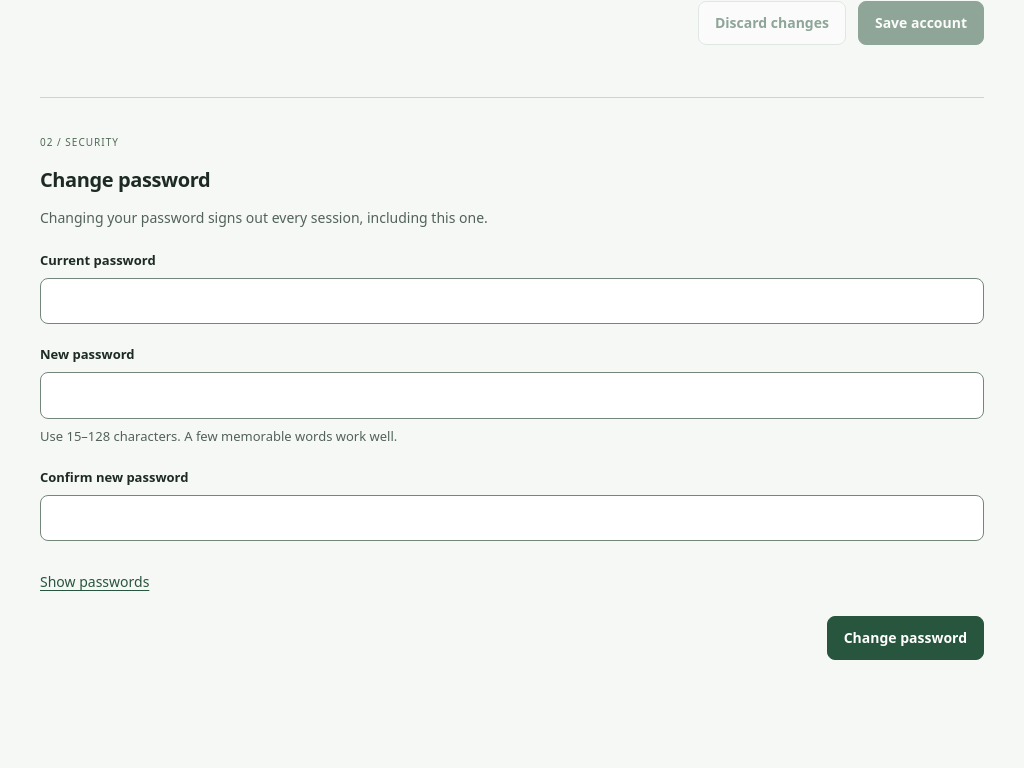
Scenario: validates password confirmation and current password without submitting
(page scrolled)
Expected: the password field labelled "Current password" is shown, x1=40 y1=278 x2=984 y2=324
In the password field labelled "New password": (512, 396) x1=40 y1=372 x2=984 y2=419, type "short"
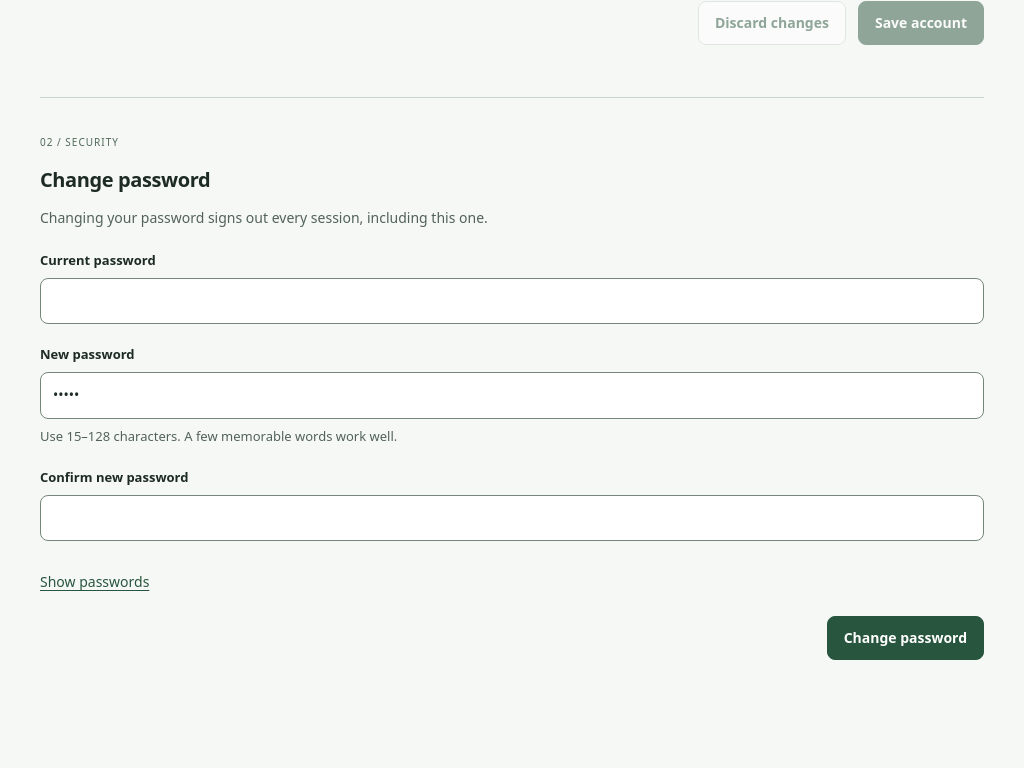
Click the button "Change password": click(905, 638) x1=827 y1=616 x2=984 y2=660
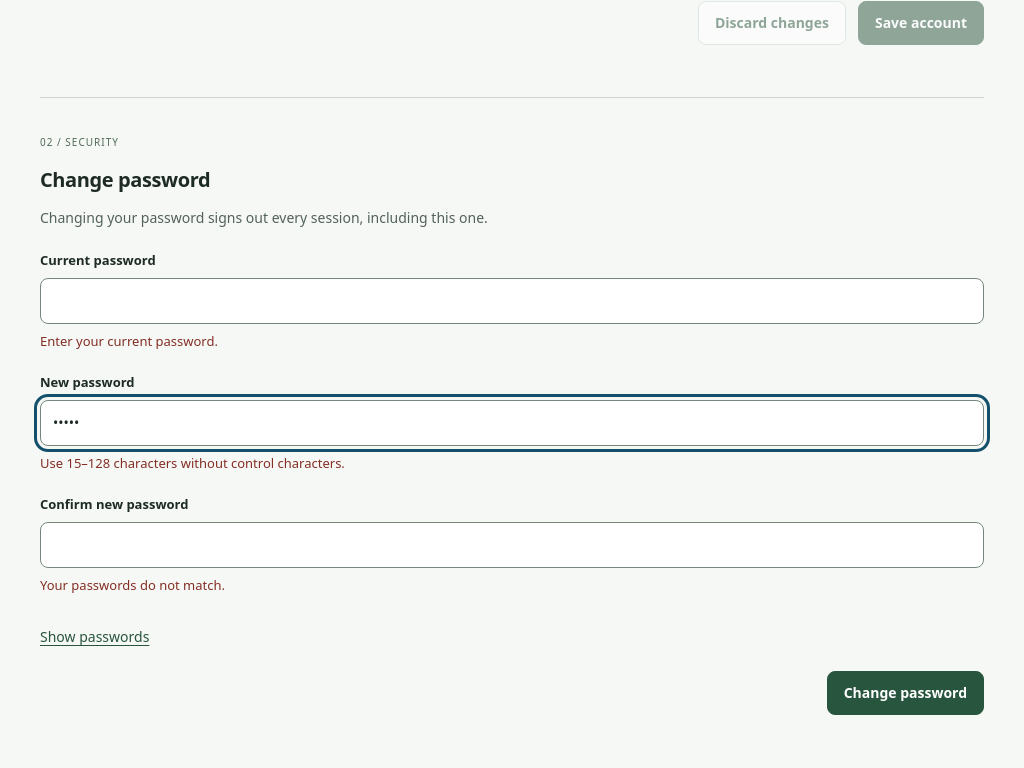
Expected: the text "Enter your current password." is shown, x1=40 y1=332 x2=218 y2=350
Expected: the text "Your passwords do not match." is shown, x1=40 y1=576 x2=225 y2=594
